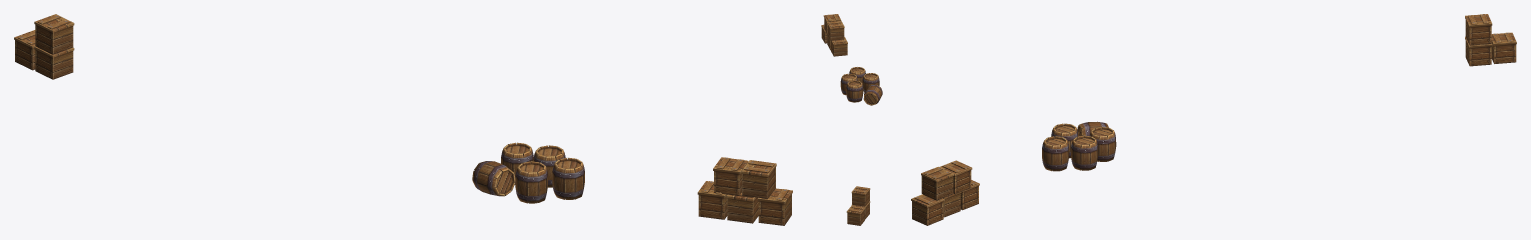
Rendered from Area_12_3.fbx.
3 views of the same model, side by side, from view 1: azimuth 30°, elevation 25°; view 2: azimuth 150°, elevation 25°; view 3: azimuth 270°, elevation 25° (orthographic). The views are drawn at different scales.
Visible parts, largest first — view 1: Area_12_3; view 2: Area_12_3; view 3: Area_12_3.
Part boxes in pixels (x1,y1,x2,y2): Area_12_3: [14, 14, 792, 225]; Area_12_3: [821, 14, 882, 225]; Area_12_3: [911, 14, 1516, 225].
Size of the model in its own units: 1586 by 193 by 2339.
